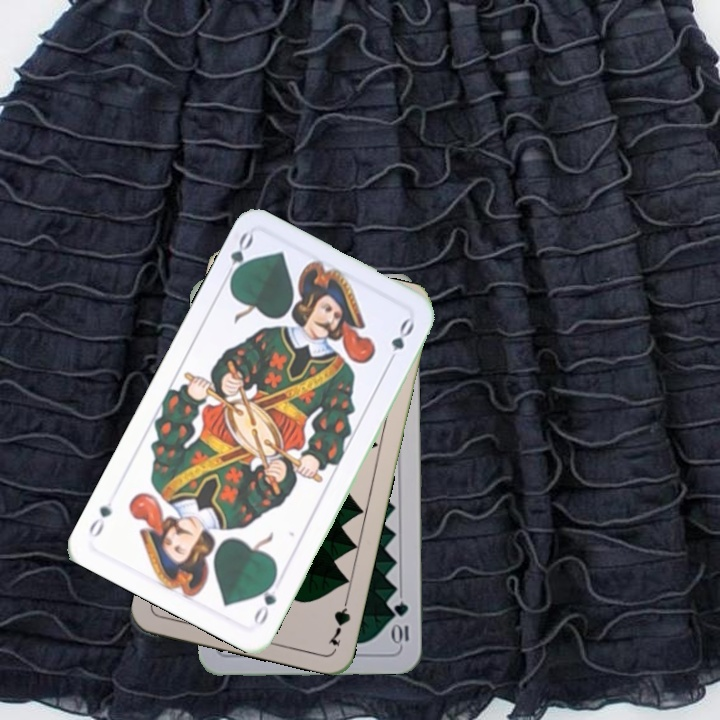G10: (390, 597, 411, 647)
G7: (325, 591, 353, 649)
GO: (219, 228, 256, 287), (249, 572, 280, 628)
